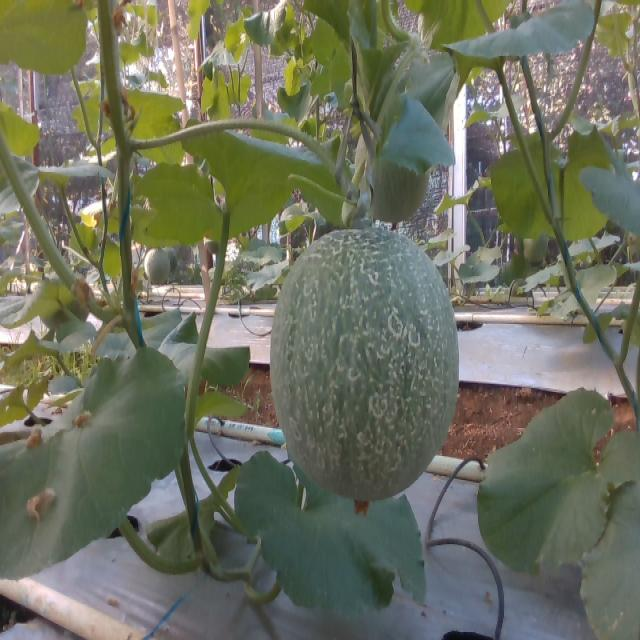melon: (271, 228, 459, 501)
